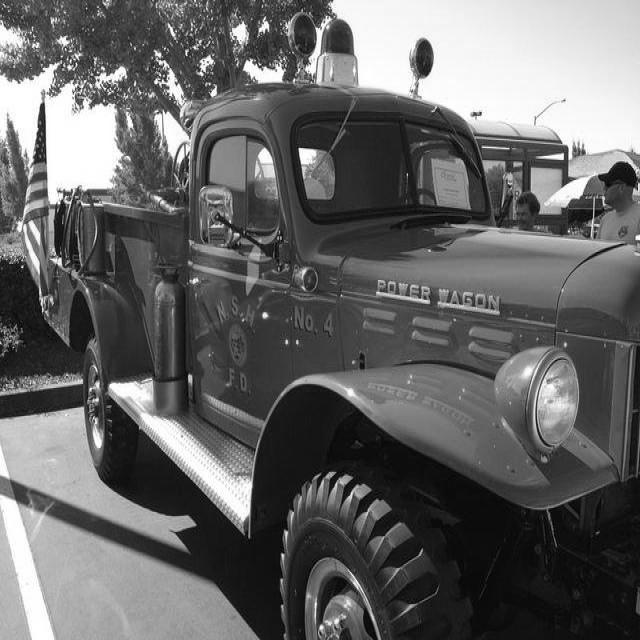vehicle: (20, 13, 639, 629), (43, 16, 640, 633)
